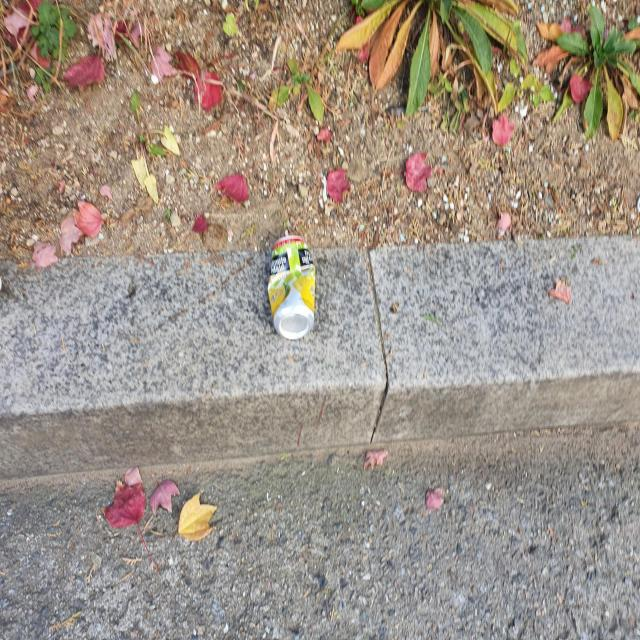can: (268, 235, 316, 339)
